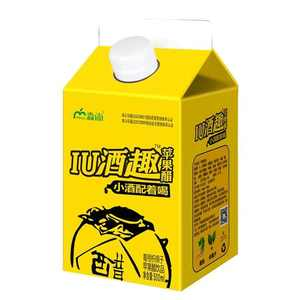carton: (49, 12, 252, 294)
